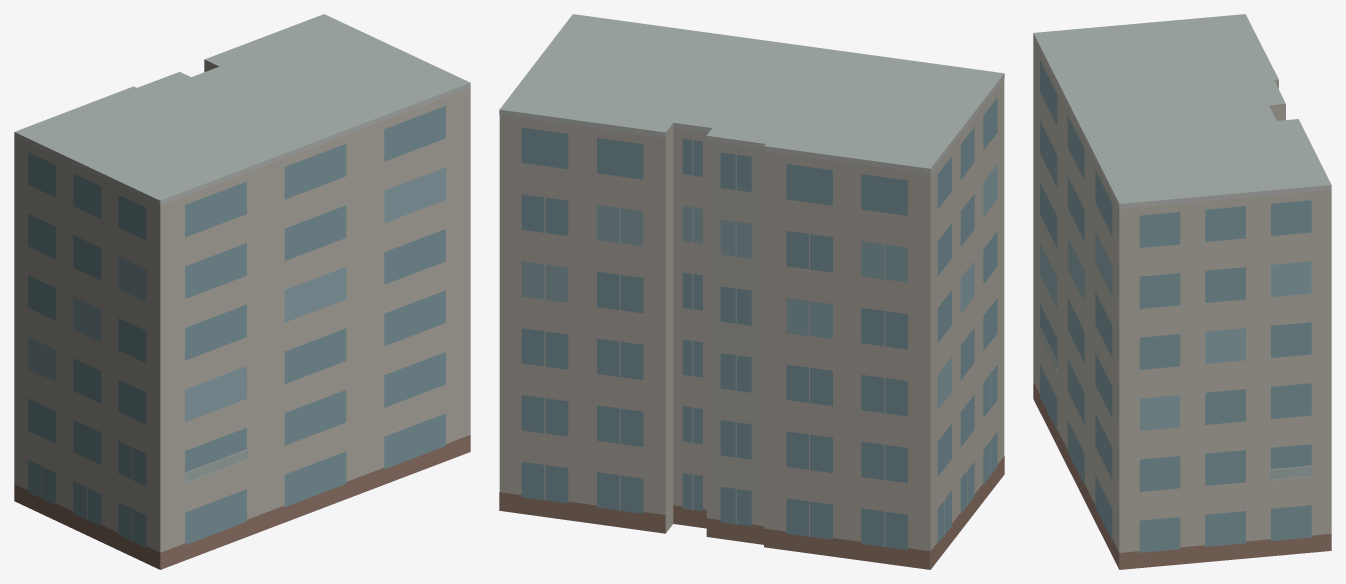
The model's file is survey-upis-32958943.glb.
The picture shows the model from 3 angles, left to right: view 1: azimuth 30°, elevation 25°; view 2: azimuth 150°, elevation 25°; view 3: azimuth 270°, elevation 25°; orthographic projection. The views are drawn at different scales.
Visible parts, largest first — view 1: survey-upis-32958943.tmp; view 2: survey-upis-32958943.tmp; view 3: survey-upis-32958943.tmp.
Boxes of the visible parts, x1,y1,x2,y2 form: survey-upis-32958943.tmp: (14,14,470,569); survey-upis-32958943.tmp: (499,14,1004,569); survey-upis-32958943.tmp: (1033,14,1331,569).
Size of the model in its own units: 20.39 by 18.3 by 13.53.
